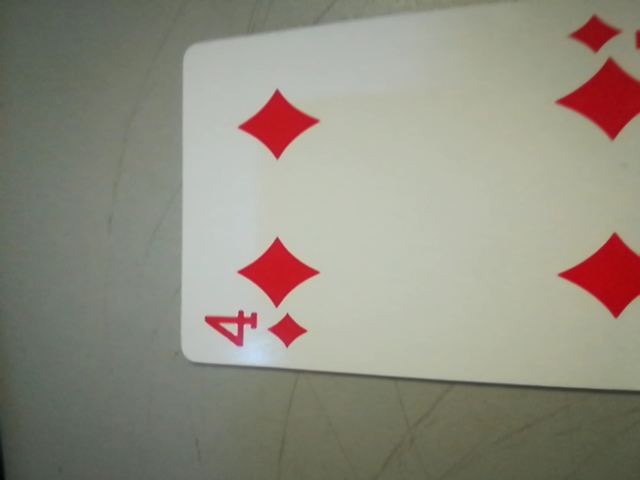fk 4: (189, 291, 318, 362)
